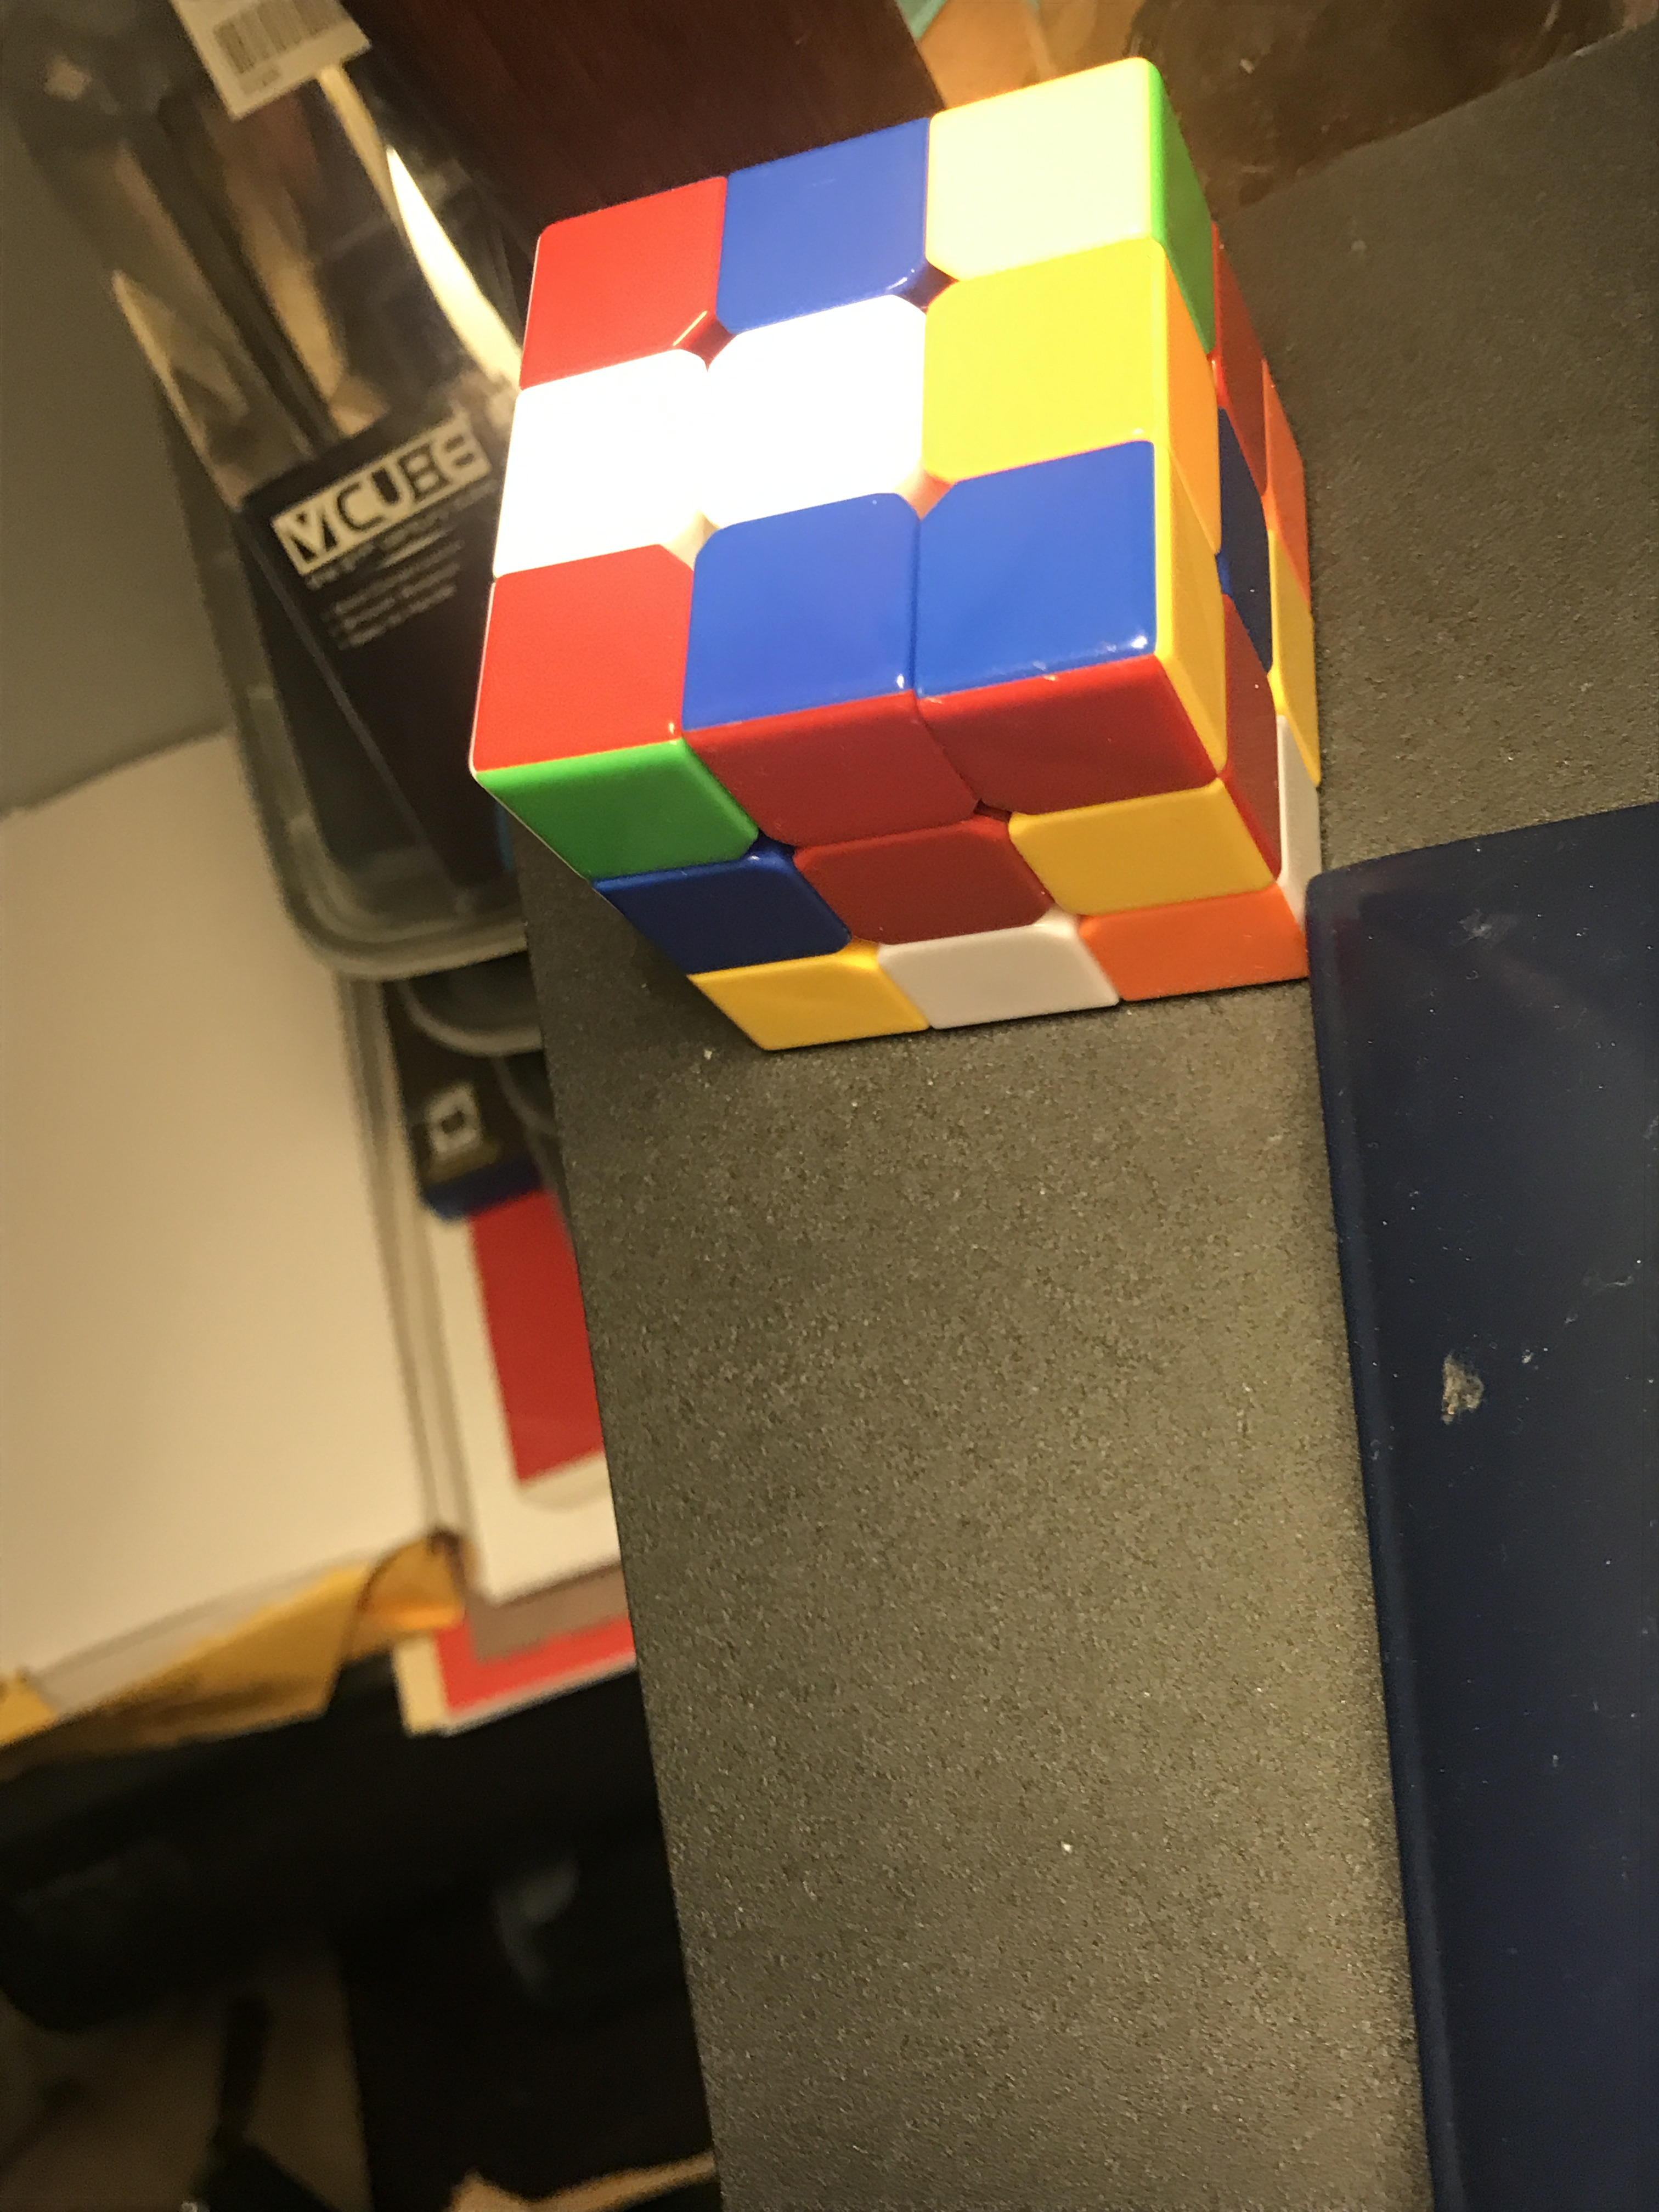rubiks: (465, 59, 1394, 1078)
